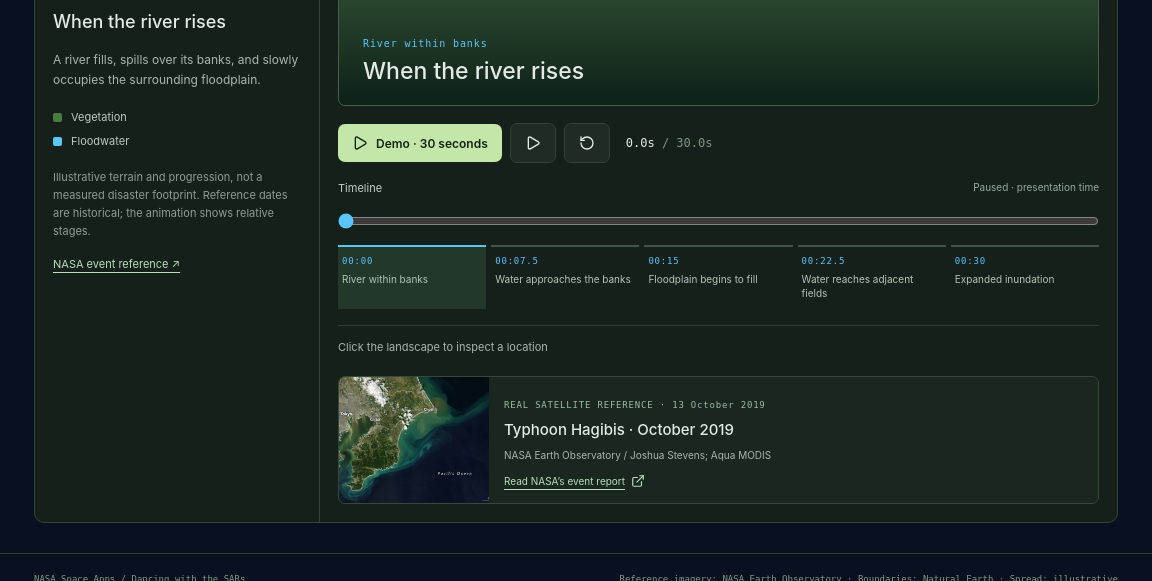
it: switches country and imagery, resets playback, and lets sliders seek exact stages
(page scrolled)
Set the slider named "Demo timeline" to "22.5" at (905, 221), box [338,213,1099,229]
(page scrolled)
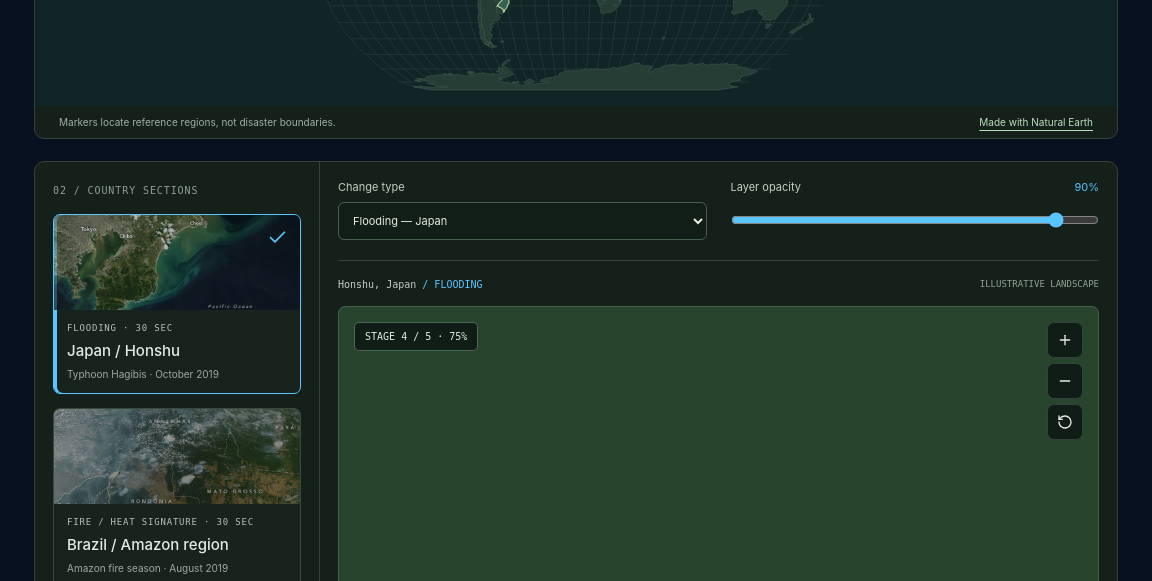
Select "Fire / heat signature — Brazil" in the dropdown labelled "Change type" at (522, 221), box [338,202,706,240]
(page scrolled)
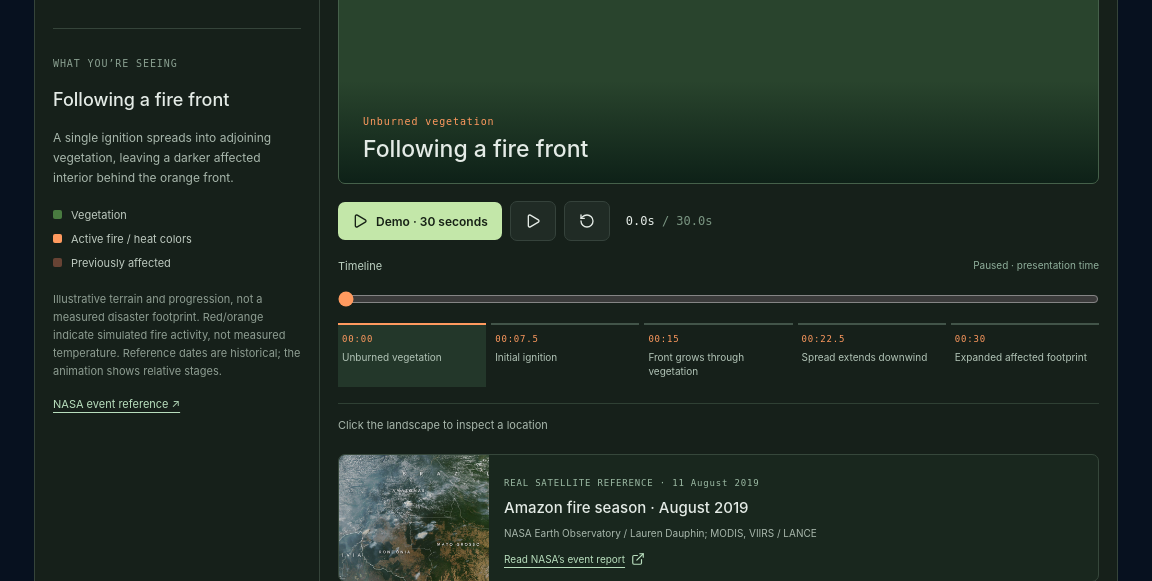
Expected: the element with test id "playback-time" shows "0.0s", [662,214,712,228]
Click the button "Demo · 30 seconds" at (420, 221), box [338,202,502,240]
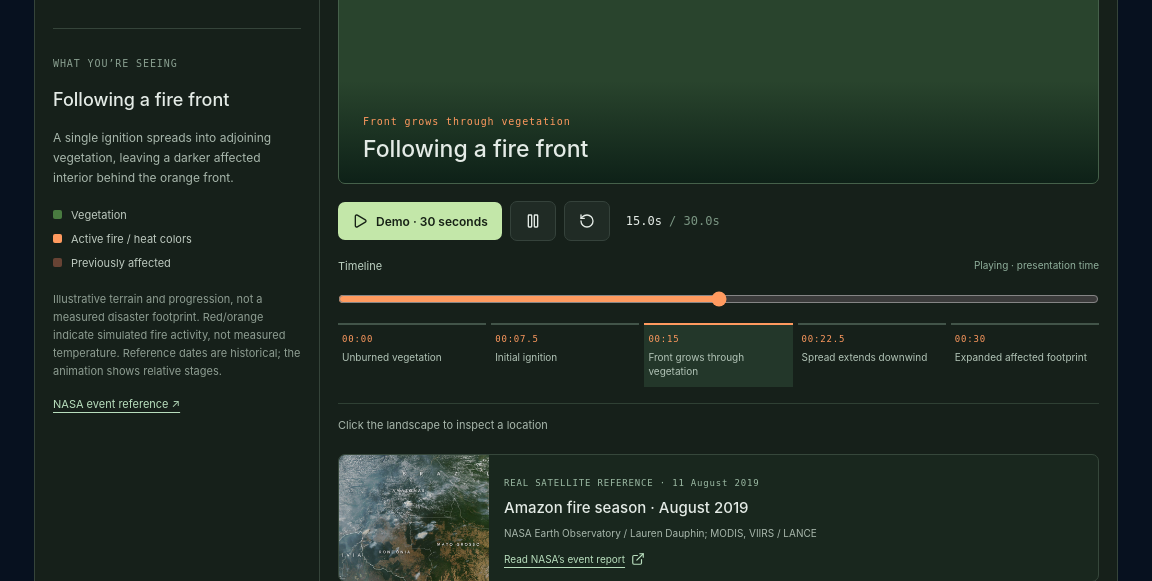
Set the slider named "Demo timeline" to "9" at (570, 299), box [338,291,1099,307]
(page scrolled)
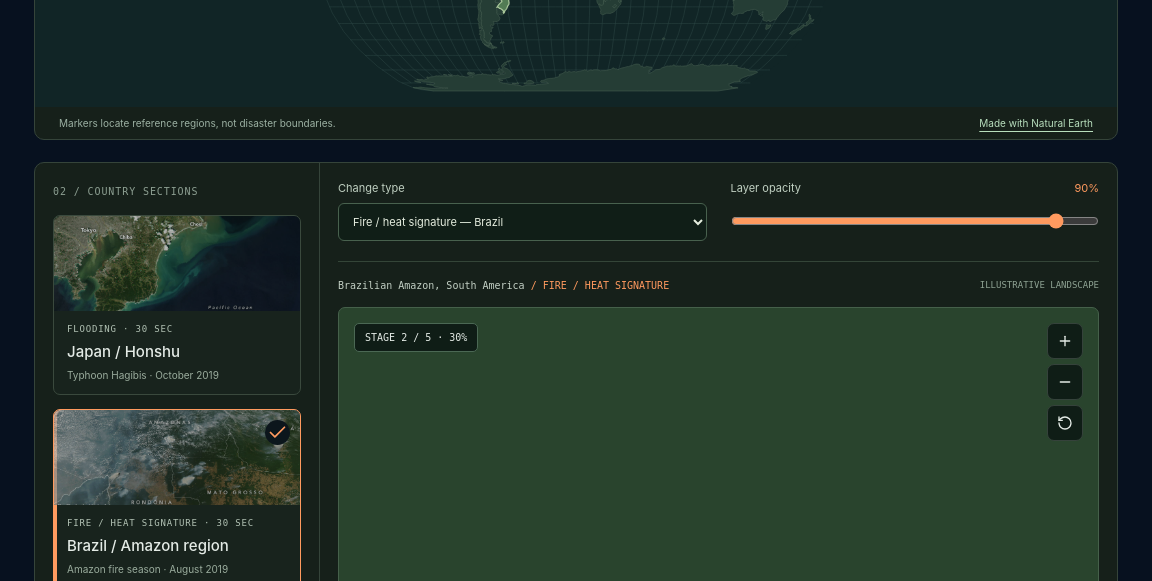
Set the slider labelled "Layer opacity" to ".4" at (915, 221), box [730,213,1099,229]
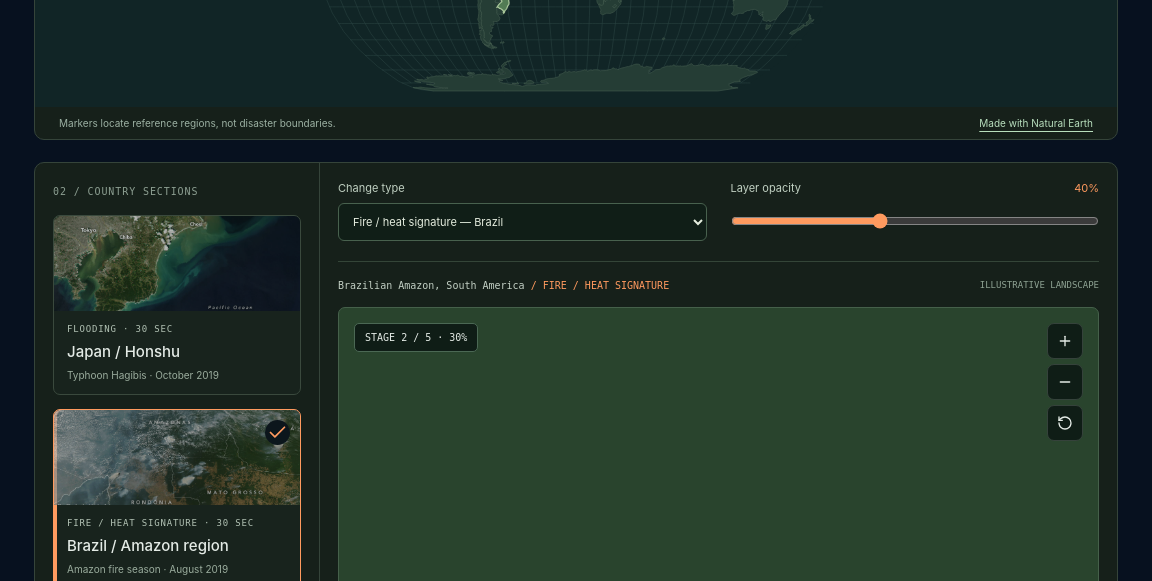
Expected: the text "40%" is shown, [1074,181,1099,195]
